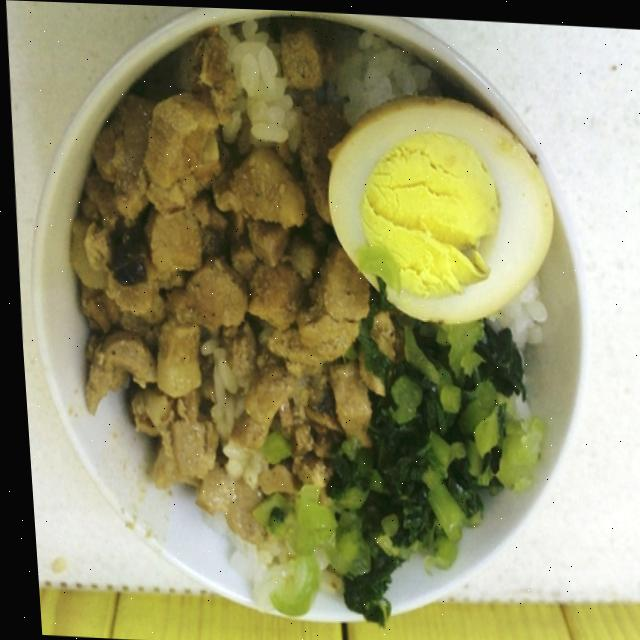猪肉菜式: (23, 1, 591, 611)
